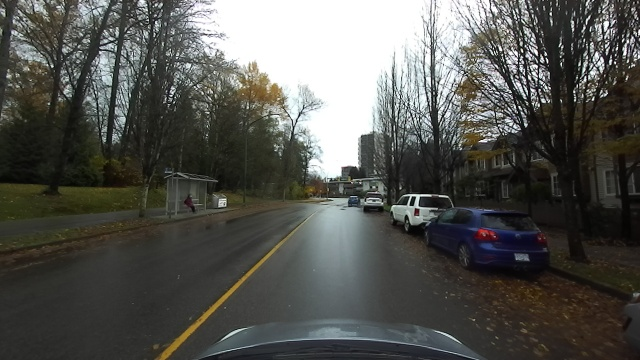car: (424, 205, 551, 274), (383, 189, 455, 231), (360, 192, 387, 214), (346, 193, 361, 207)
